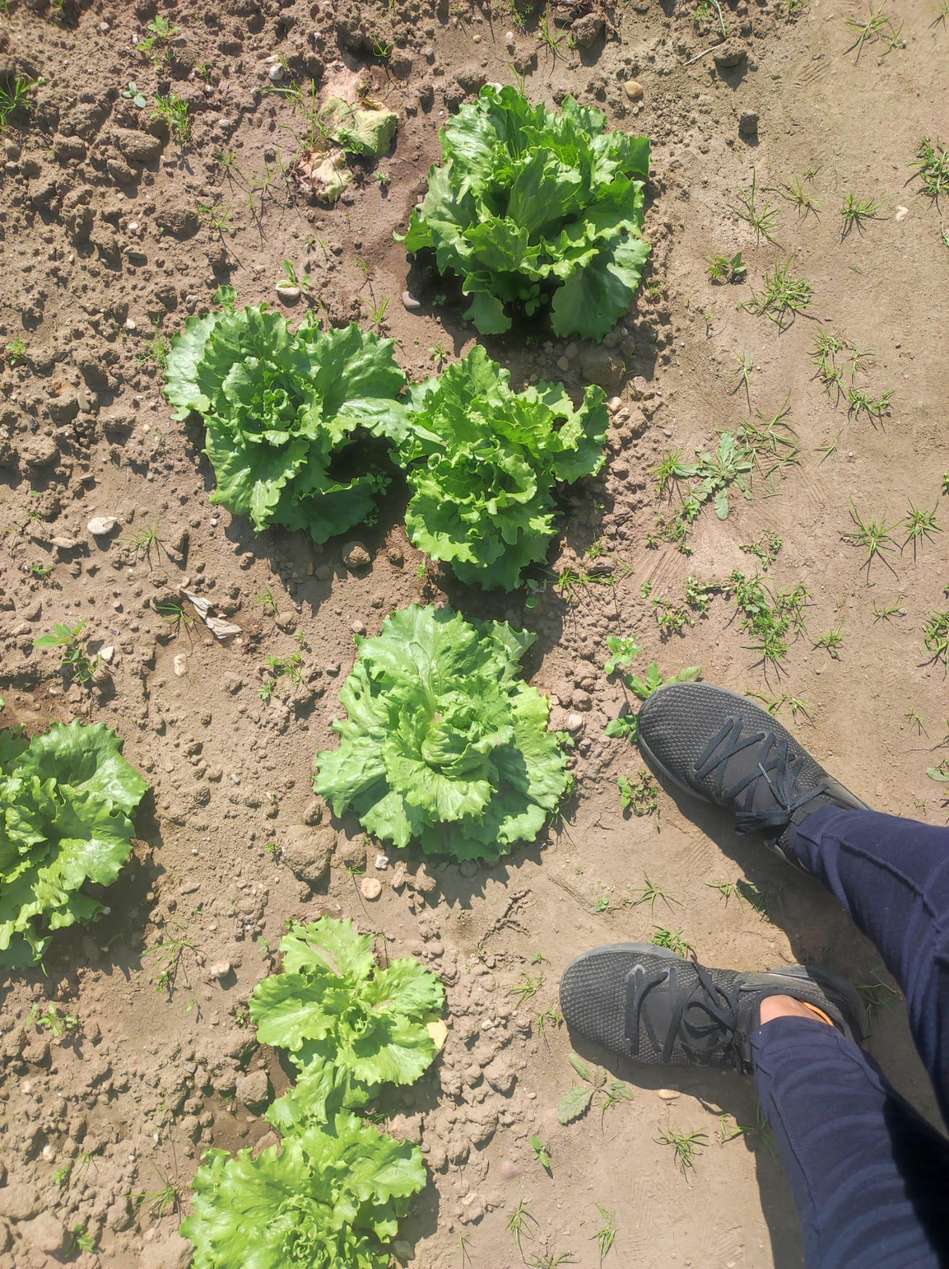Healthy: (313, 605, 573, 862), (403, 82, 650, 339), (162, 305, 404, 541), (387, 345, 609, 591), (248, 919, 444, 1135), (179, 1113, 426, 1269), (0, 721, 147, 969)
